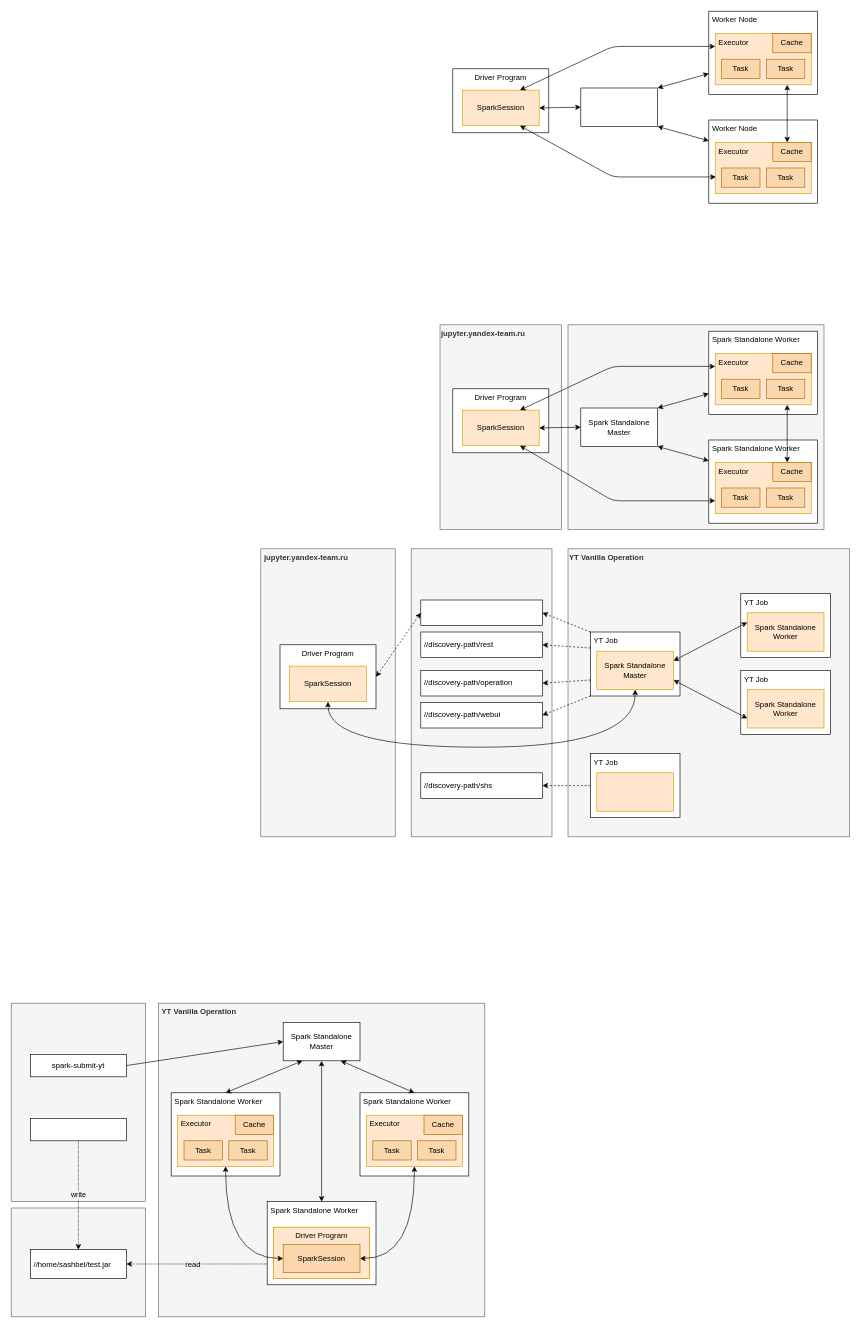
The diagram is 861 pixels wide and 1328 high, and some of its shapes have lost their labels. The shapes that lost their labels are listed below. From the top down, each one's box as (x1, y1, x2, y2) in pixels, then its label:
(580, 87, 658, 126): Cluster Manager
(567, 324, 824, 530): YT
(420, 599, 542, 626): //discovery-path/spark_address
(411, 548, 552, 837): Cypress Discovery
(596, 772, 674, 811): Spark History Server
(11, 1003, 146, 1202): Localhost
(30, 1118, 126, 1141): build-my-jar
(11, 1207, 146, 1317): YT Storage
